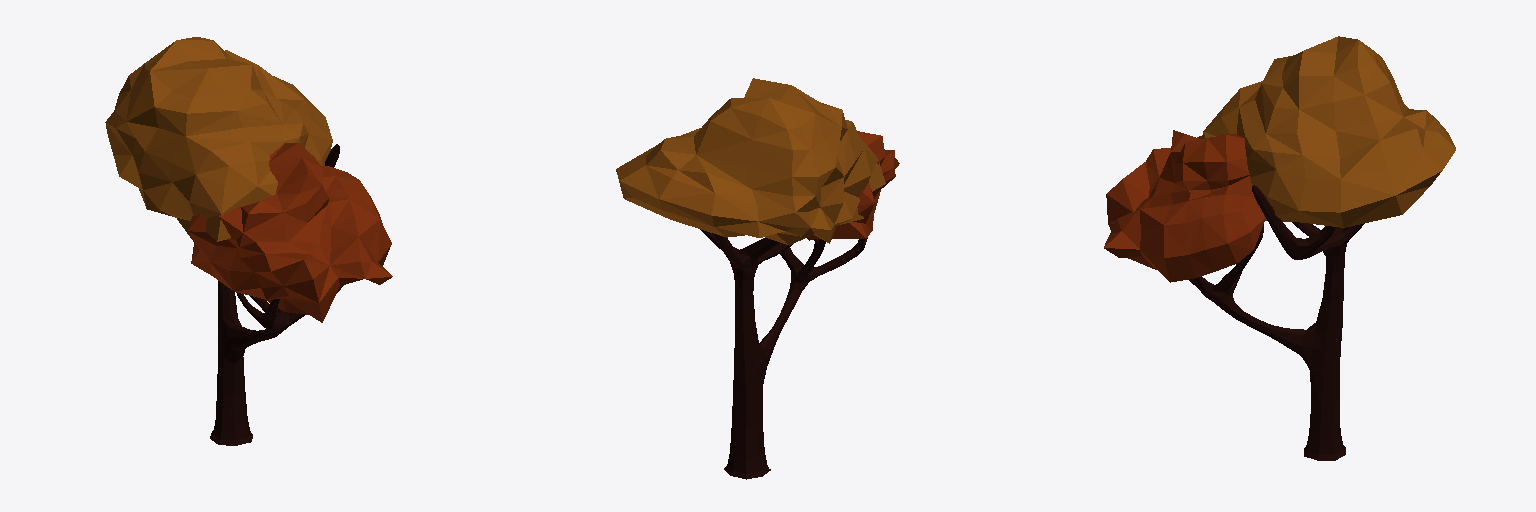
Rendered from Tree.obj.
The picture shows the model from 3 angles: view 1: azimuth 30°, elevation 25°; view 2: azimuth 150°, elevation 25°; view 3: azimuth 270°, elevation 25°; orthographic projection.
Parts seen in each view (by area): view 1: CommonTree_Autumn_2; view 2: CommonTree_Autumn_2; view 3: CommonTree_Autumn_2.
Boxes of the visible parts, <box> form: CommonTree_Autumn_2: <box>105,37,392,445</box>; CommonTree_Autumn_2: <box>616,78,899,479</box>; CommonTree_Autumn_2: <box>1104,36,1455,460</box>.
Bounding box in the file's own units: 1.66 × 3.12 × 2.54.